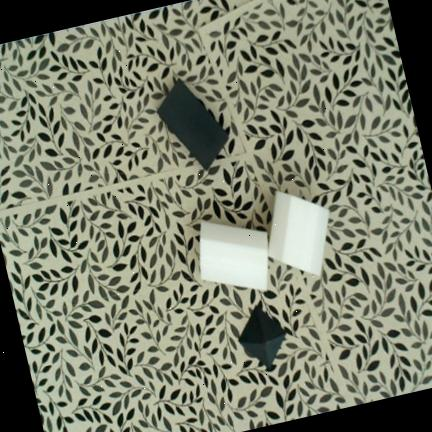Paralelepipedo: (158, 81, 228, 169)
Piramide: (239, 305, 286, 368)
Prisma_hexagonal: (268, 190, 330, 277), (200, 222, 268, 291)
